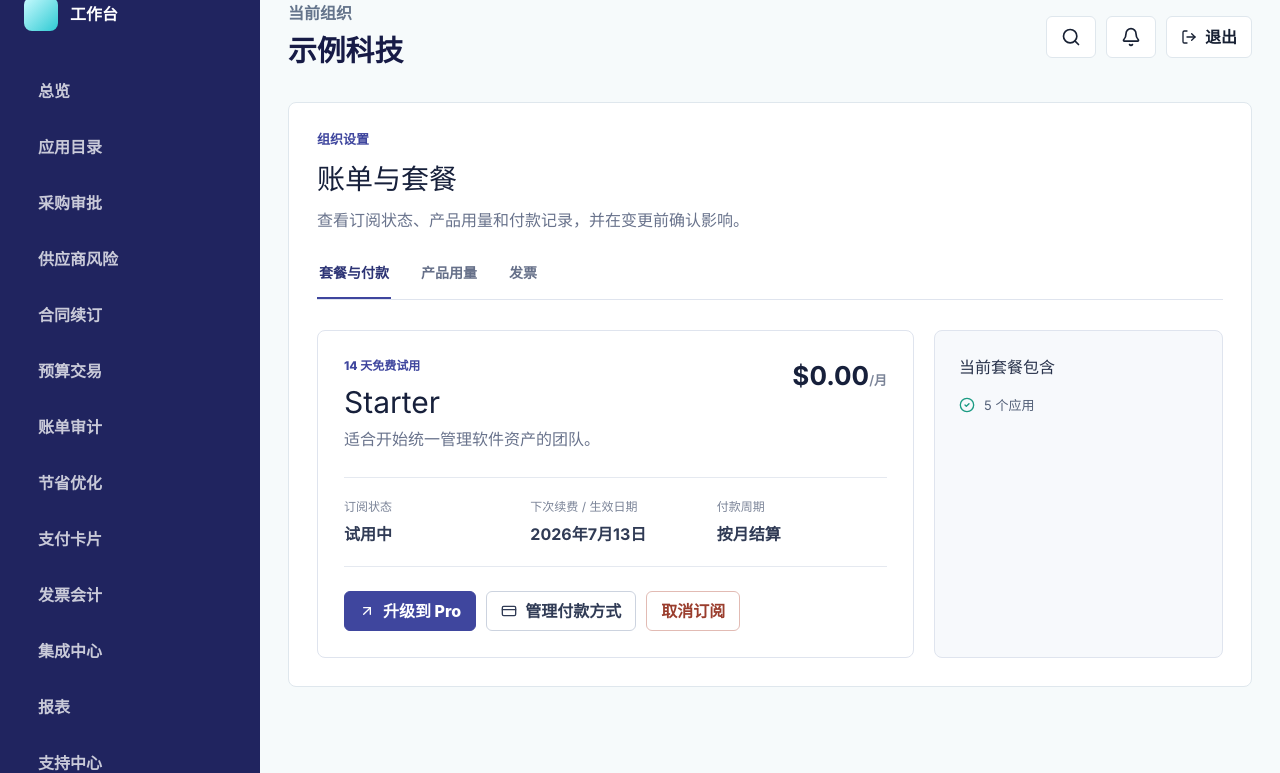
Test case: 组织所有者可以预览并确认升级
This screenshot has width=1280, height=773.
Expected: the text "14 天免费试用" is shown, x1=344 y1=358 x2=420 y2=373
Expected: the heading "Starter" is shown, x1=344 y1=381 x2=440 y2=426
Step 1. Click the button "升级到 Pro" → (410, 611), box x1=344 y1=591 x2=476 y2=631
(page scrolled)
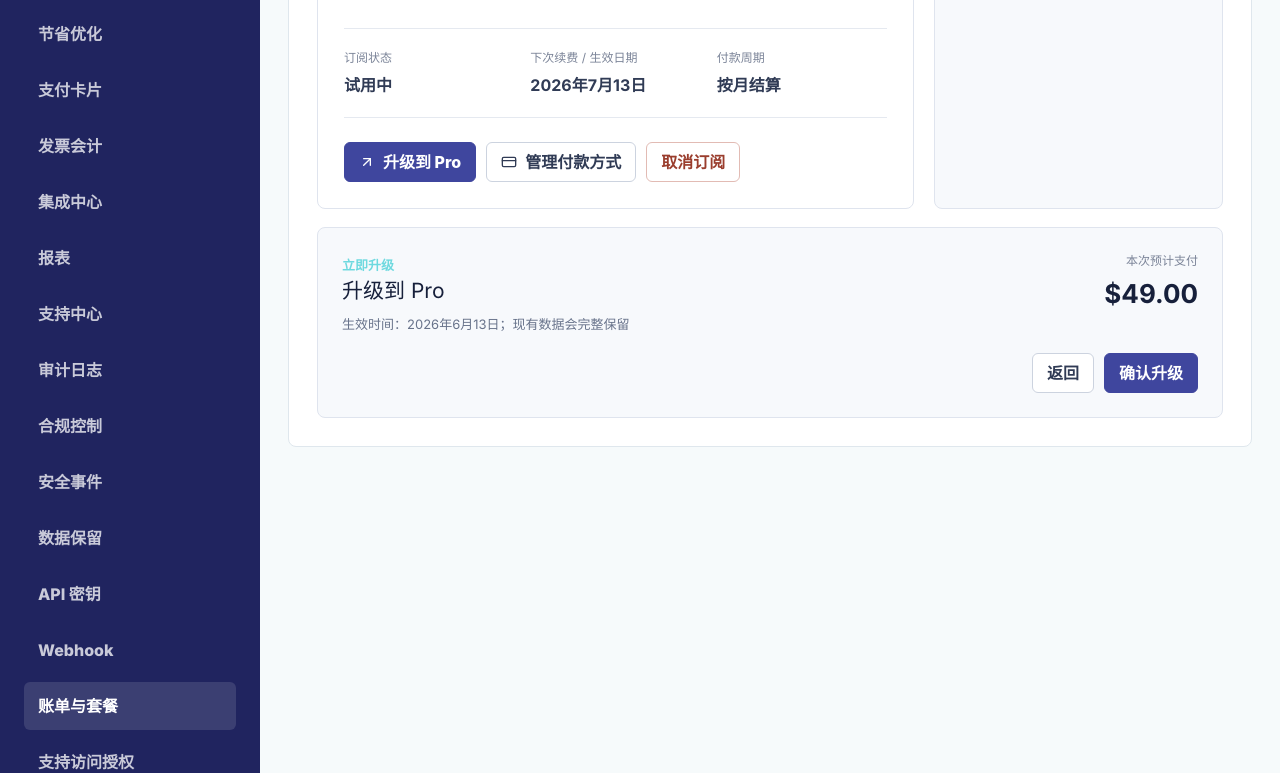
Result: the text "本次预计支付" is shown at x1=1126 y1=253 x2=1198 y2=268
Result: the text "$49.00" is shown at x1=1104 y1=275 x2=1198 y2=314
Step 2. Click the button "确认升级" → (1151, 374), box x1=1104 y1=354 x2=1198 y2=394
(page scrolled)
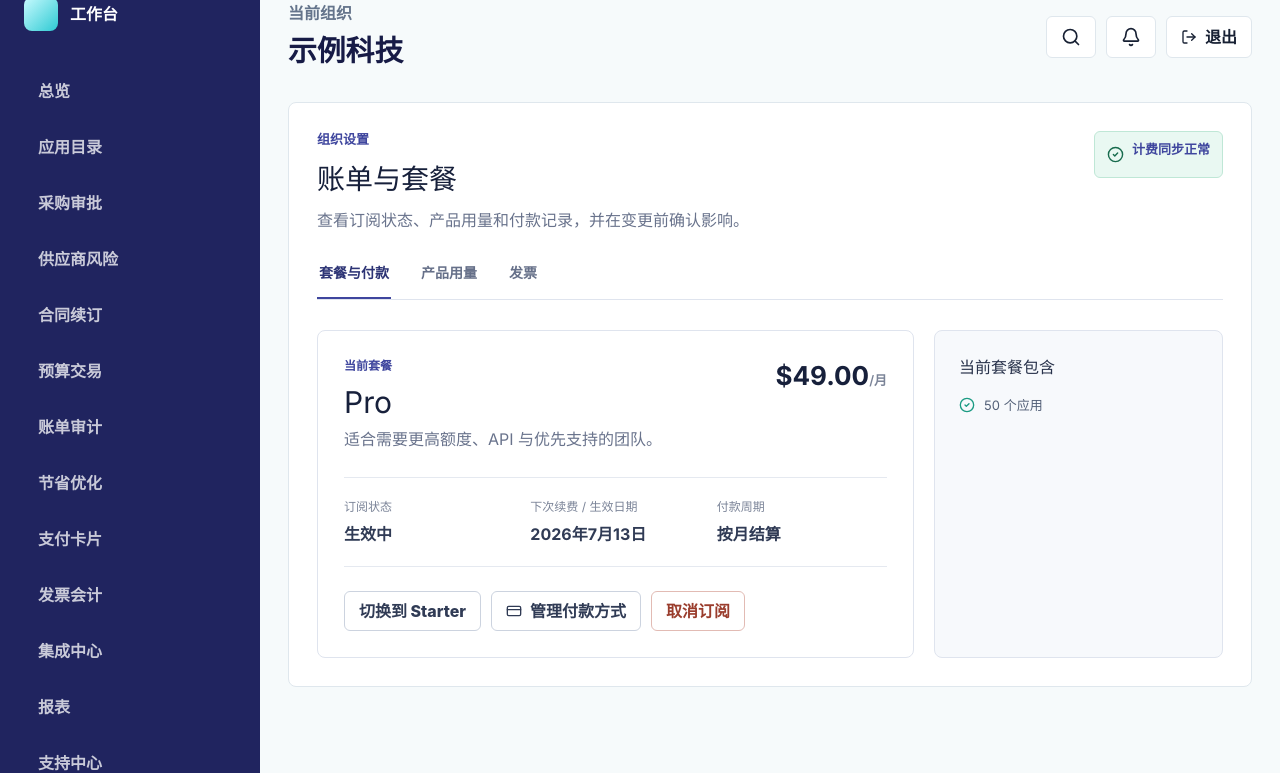
Result: the heading "Pro" is shown at x1=344 y1=381 x2=392 y2=426
Result: the text "计费同步正常" is shown at x1=1132 y1=141 x2=1210 y2=161
